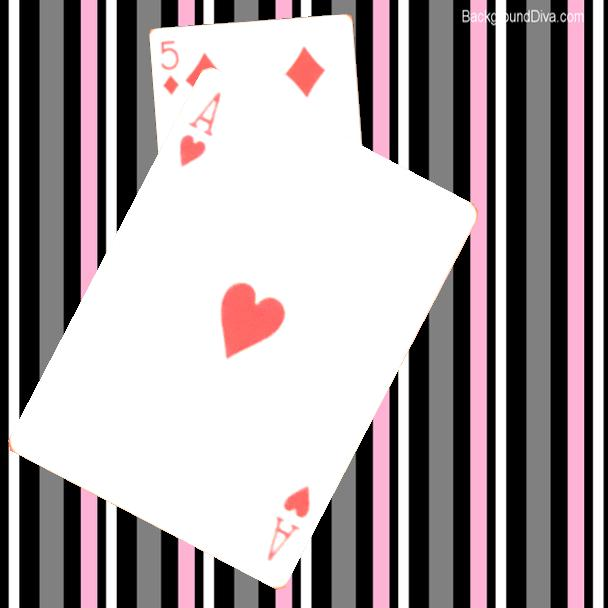d05: (158, 37, 182, 98)
h01: (263, 483, 314, 565), (175, 88, 225, 171)
